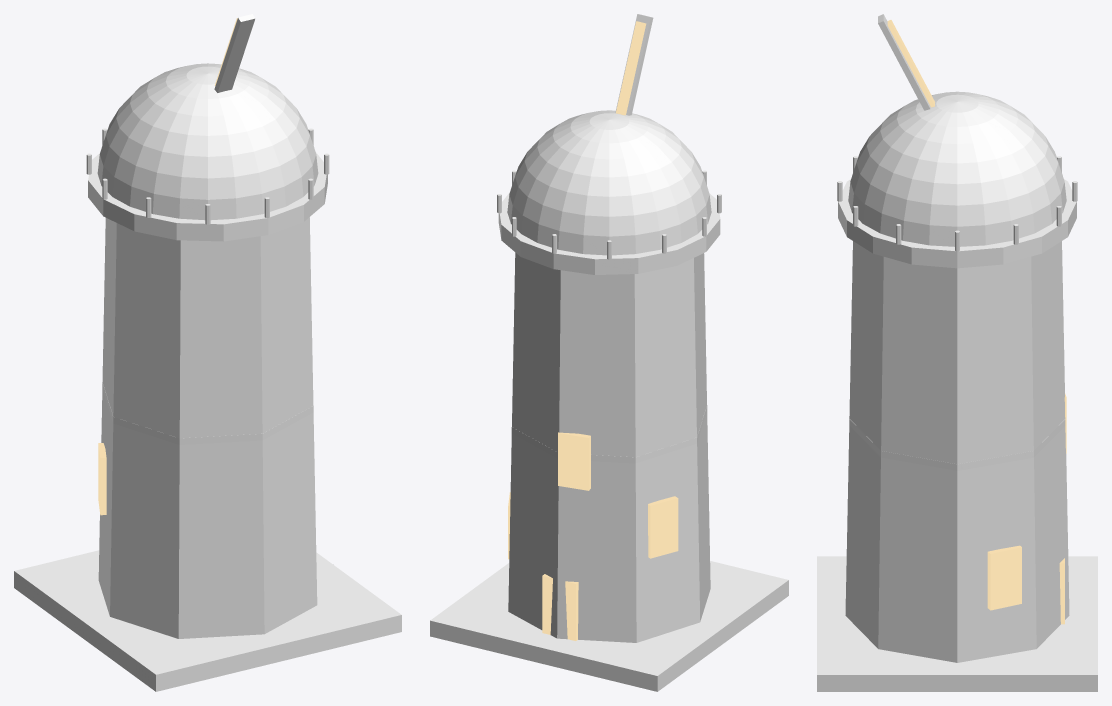
Rendered from SA-001_Observatory.glb.
The picture shows the model from 3 angles, left to right: view 1: azimuth 30°, elevation 25°; view 2: azimuth 150°, elevation 25°; view 3: azimuth 270°, elevation 25°; orthographic projection. The views are drawn at different scales.
Parts seen in each view (by area): view 1: Obs_Base, Rotating_Dome, Building_Plinth.001, Obs_Gallery_Ring, Obs_Trim_Mid, Dome_Shutter_Frame, Obs_Window_2; view 2: Obs_Base, Rotating_Dome, Building_Plinth.001, Obs_Gallery_Ring, Obs_Window_1, Obs_Window_2, Obs_Door, Obs_Trim_Mid, Dome_Shutter, Dome_Shutter_Frame; view 3: Obs_Base, Rotating_Dome, Building_Plinth.001, Obs_Gallery_Ring, Obs_Window_0, Obs_Trim_Mid, Dome_Shutter_Frame, Dome_Shutter.
Boxes of the visible parts, x1=… form: Obs_Base: x1=98, y1=217, x2=317, y2=638; Rotating_Dome: x1=97, y1=63, x2=318, y2=220; Building_Plinth.001: x1=14, y1=550, x2=401, y2=691; Obs_Gallery_Ring: x1=88, y1=152, x2=327, y2=241; Obs_Trim_Mid: x1=102, y1=382, x2=313, y2=444; Dome_Shutter_Frame: x1=214, y1=14, x2=255, y2=92; Obs_Window_2: x1=98, y1=443, x2=106, y2=515; Obs_Base: x1=508, y1=252, x2=710, y2=642; Rotating_Dome: x1=507, y1=110, x2=711, y2=255; Building_Plinth.001: x1=430, y1=561, x2=788, y2=691; Obs_Gallery_Ring: x1=498, y1=192, x2=720, y2=274; Obs_Window_1: x1=558, y1=432, x2=590, y2=490; Obs_Window_2: x1=648, y1=496, x2=678, y2=558; Obs_Door: x1=542, y1=574, x2=578, y2=640; Obs_Trim_Mid: x1=511, y1=405, x2=707, y2=463; Dome_Shutter: x1=616, y1=21, x2=646, y2=115; Dome_Shutter_Frame: x1=615, y1=14, x2=653, y2=115; Obs_Base: x1=845, y1=241, x2=1069, y2=662; Rotating_Dome: x1=848, y1=91, x2=1066, y2=246; Building_Plinth.001: x1=817, y1=556, x2=1097, y2=691; Obs_Gallery_Ring: x1=838, y1=179, x2=1076, y2=268; Obs_Window_0: x1=987, y1=545, x2=1021, y2=610; Obs_Trim_Mid: x1=849, y1=419, x2=1065, y2=470; Dome_Shutter_Frame: x1=878, y1=14, x2=930, y2=110; Dome_Shutter: x1=887, y1=20, x2=934, y2=107.
Size of the model in its own units: 2.7 by 6.52 by 2.7.
